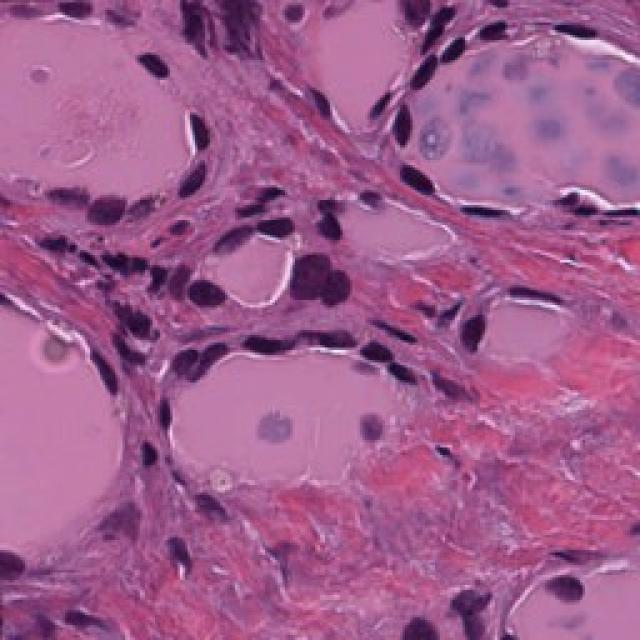normal: (60, 300, 155, 408), (124, 33, 195, 106), (79, 178, 150, 247), (538, 0, 610, 58), (384, 139, 444, 206), (231, 323, 300, 381), (162, 326, 227, 386), (368, 97, 433, 155), (351, 327, 406, 393), (402, 41, 453, 100), (176, 155, 224, 208)
